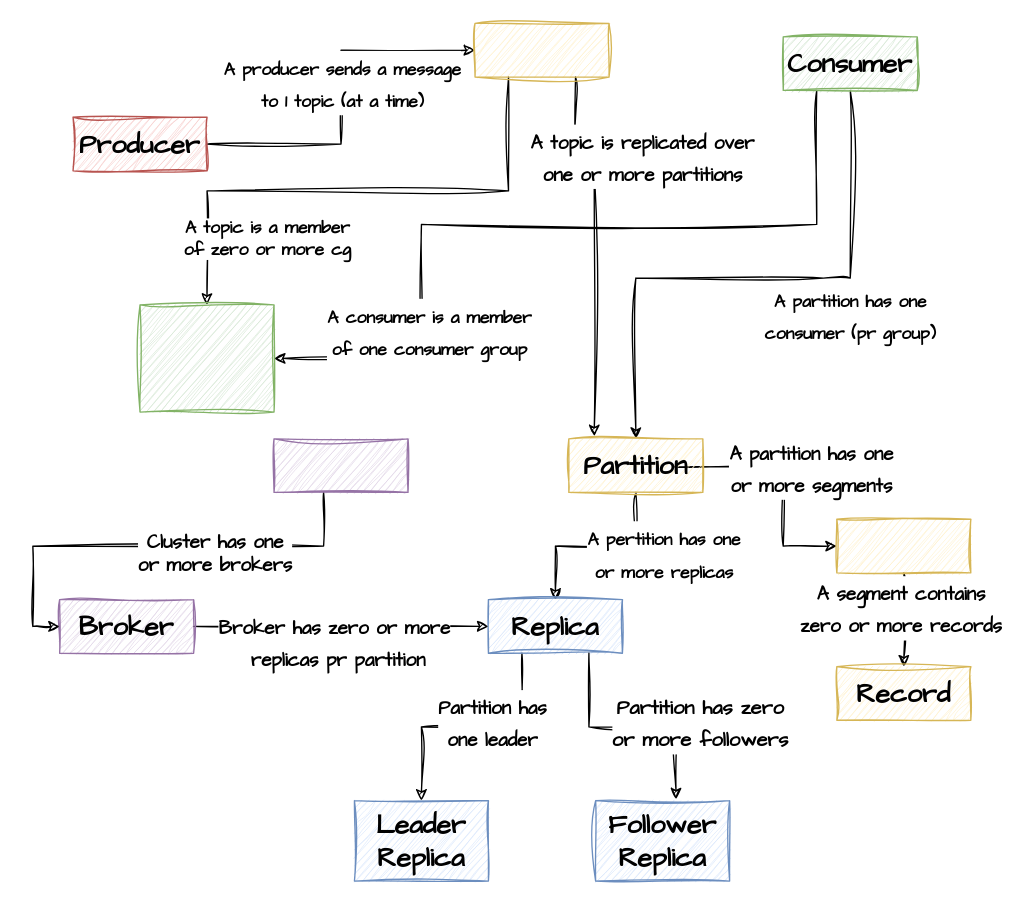
This 1025x905 diagram has some shape labels left out. Each missing label, with the box of its shape:
Cluster: (273, 438, 408, 492)
Consumer group: (139, 304, 274, 412)
Segment: (835, 518, 971, 573)
Topic: (474, 22, 609, 77)
